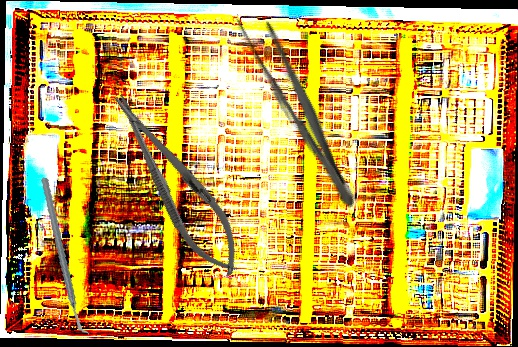Chopper: (16, 177, 115, 337)
Dressing Forceps: (230, 5, 370, 215)
Needle Holder: (98, 81, 255, 287)
